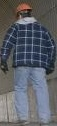boots: (0, 101, 9, 125), (13, 118, 29, 124)
gloves: (0, 61, 8, 73), (0, 51, 4, 67)
hard-hat: (16, 1, 32, 12)
vest: (0, 11, 18, 57)
